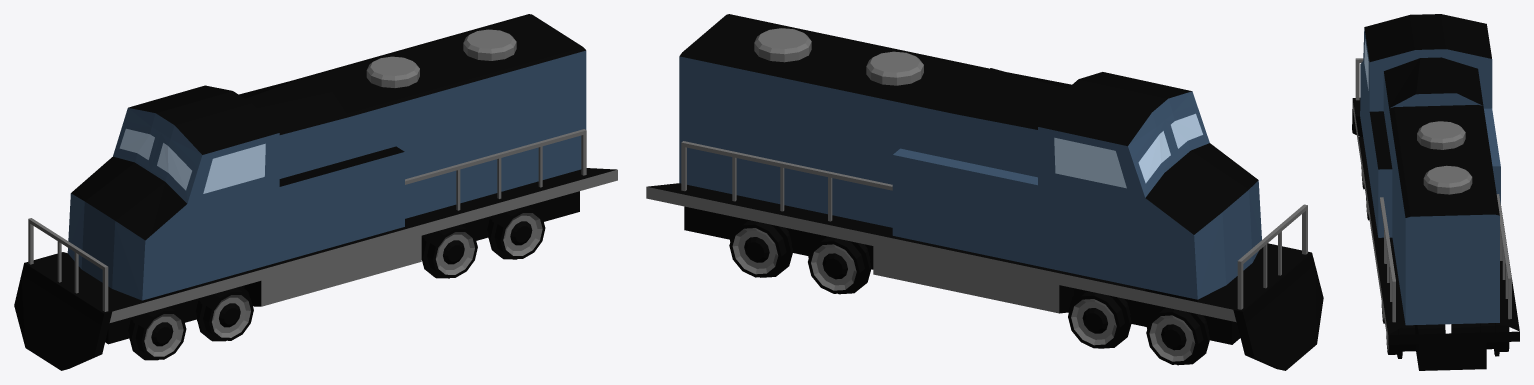
The model's file is train3.glb.
3 renders of one model, left to right at view 1: azimuth 30°, elevation 25°; view 2: azimuth 150°, elevation 25°; view 3: azimuth 270°, elevation 25°, orthographic. The views are drawn at different scales.
Parts seen in each view (by area): view 1: Train; view 2: Train; view 3: Train.
Part boxes in pixels (bbox=[...]): Train: bbox=[14, 14, 617, 370]; Train: bbox=[646, 14, 1323, 370]; Train: bbox=[1352, 14, 1519, 370].
Size of the model in its own units: 4.32 by 1.56 by 1.23.
Materials: 1 (1 with a texture image).
